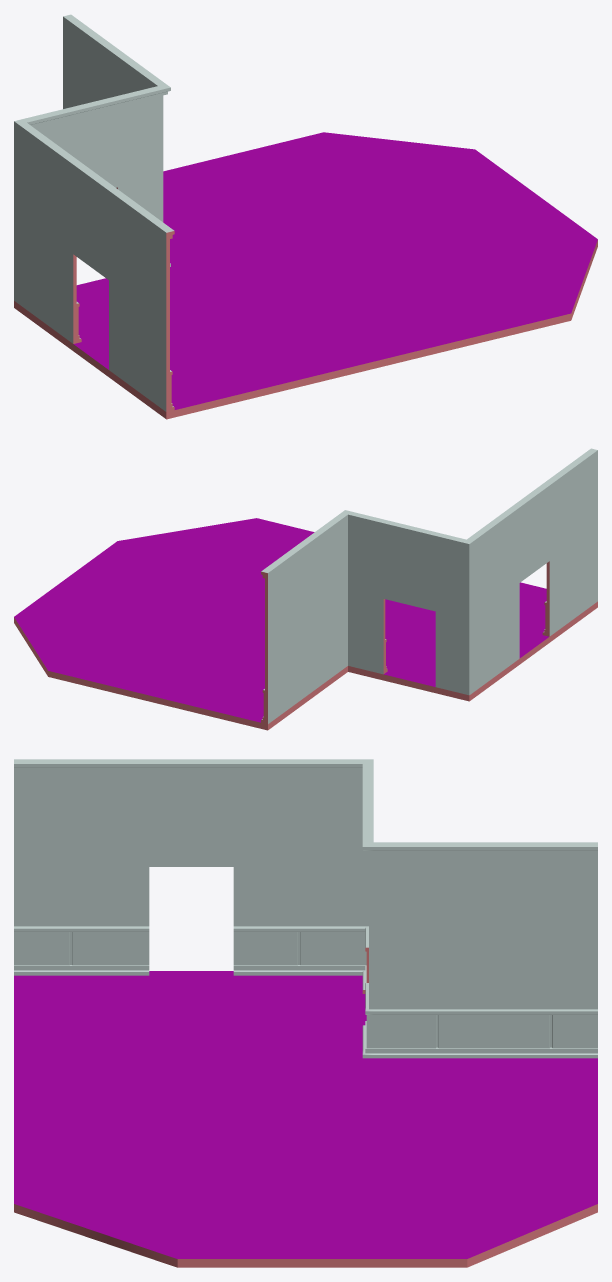
The model's file is Study.fbx.
The picture shows the model from 3 angles, top to bottom: view 1: azimuth 30°, elevation 25°; view 2: azimuth 150°, elevation 25°; view 3: azimuth 270°, elevation 25°; orthographic projection. The views are drawn at different scales.
Parts seen in each view (by area): view 1: polySurface184; view 2: polySurface184; view 3: polySurface184.
Boxes of the visible parts, x1=… form: polySurface184: x1=14, y1=14, x2=597, y2=419; polySurface184: x1=14, y1=448, x2=597, y2=730; polySurface184: x1=14, y1=759, x2=597, y2=1267.
Size of the model in its own units: 146 by 52 by 125.
